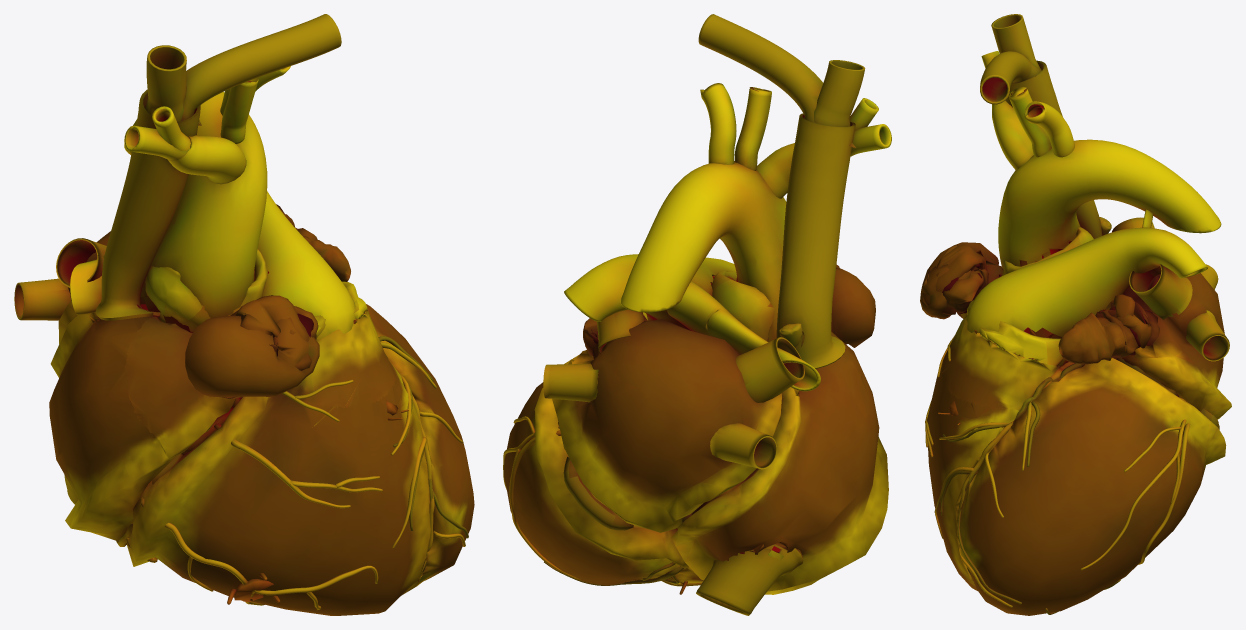
Rendered from srce.glb.
3 views of the same model, side by side, from view 1: azimuth 30°, elevation 25°; view 2: azimuth 150°, elevation 25°; view 3: azimuth 270°, elevation 25° (orthographic). The views are drawn at different scales.
Parts seen in each view (by area): view 1: Right ventricle, Right atrium, Aorta, Right auricle (lastno), Superior vena cava, Right auricle, Left ventricle, Pulmonary trunk and left pulmonary artery, Left brachiocephalic vein, Conus arteriosus, Right coronary artery, Root of aorta (+12 smaller); view 2: Left atrium, Right atrium, Aorta, Left ventricle, Superior vena cava, Left brachiocephalic vein, Inferior vena cava (thoracic part), Pulmonary trunk and left pulmonary artery, Right pulmonary artery, Right superior pulmonary vein, Right auricle (lastno), Right brachiocephalic vein (+13 smaller); view 3: Left ventricle, Aorta, Pulmonary trunk and left pulmonary artery, Left atrium, Right ventricle, Conus arteriosus, Left auricle, Right auricle (lastno), Left superior pulmonary vein, Root of pulmonary trunk, Left brachiocephalic vein, Great cardiac vein (+12 smaller).
Boxes of the visible parts, x1,y1,x2,y2 form: Right ventricle: (125, 361, 431, 615); Right atrium: (49, 312, 175, 541); Aorta: (124, 92, 267, 332); Right auricle (lastno): (185, 295, 319, 398); Superior vena cava: (95, 89, 200, 320); Right auricle: (124, 316, 235, 458); Left ventricle: (366, 304, 474, 586); Pulmonary trunk and left pulmonary artery: (253, 191, 355, 339); Left brachiocephalic vein: (144, 14, 341, 125); Conus arteriosus: (287, 311, 395, 408); Right coronary artery: (116, 379, 382, 610); Root of aorta: (145, 249, 267, 332); Left atrium: (552, 319, 781, 532); Right atrium: (671, 356, 888, 591); Aorta: (620, 162, 786, 342); Left ventricle: (504, 355, 688, 585); Superior vena cava: (776, 113, 855, 368); Left brachiocephalic vein: (698, 14, 855, 147); Inferior vena cava (thoracic part): (696, 544, 803, 615); Pulmonary trunk and left pulmonary artery: (564, 254, 736, 330); Right pulmonary artery: (667, 281, 820, 391); Right superior pulmonary vein: (736, 337, 804, 402); Right auricle (lastno): (831, 264, 875, 347); Right brachiocephalic vein: (814, 60, 865, 126); Left ventricle: (959, 357, 1226, 615); Aorta: (998, 139, 1221, 269); Pulmonary trunk and left pulmonary artery: (966, 227, 1207, 338); Left atrium: (1122, 273, 1231, 419); Right ventricle: (927, 356, 1018, 590); Conus arteriosus: (942, 312, 1060, 410); Left auricle: (1058, 294, 1159, 364); Right auricle (lastno): (920, 242, 1002, 319); Left superior pulmonary vein: (1129, 264, 1192, 319); Root of pulmonary trunk: (967, 300, 1068, 367); Left brachiocephalic vein: (980, 51, 1041, 104); Great cardiac vein: (940, 356, 1178, 604).
Bounding box in the file's own units: 0.1306 × 0.2008 × 0.113.
Materials: 1 (1 with a texture image).
